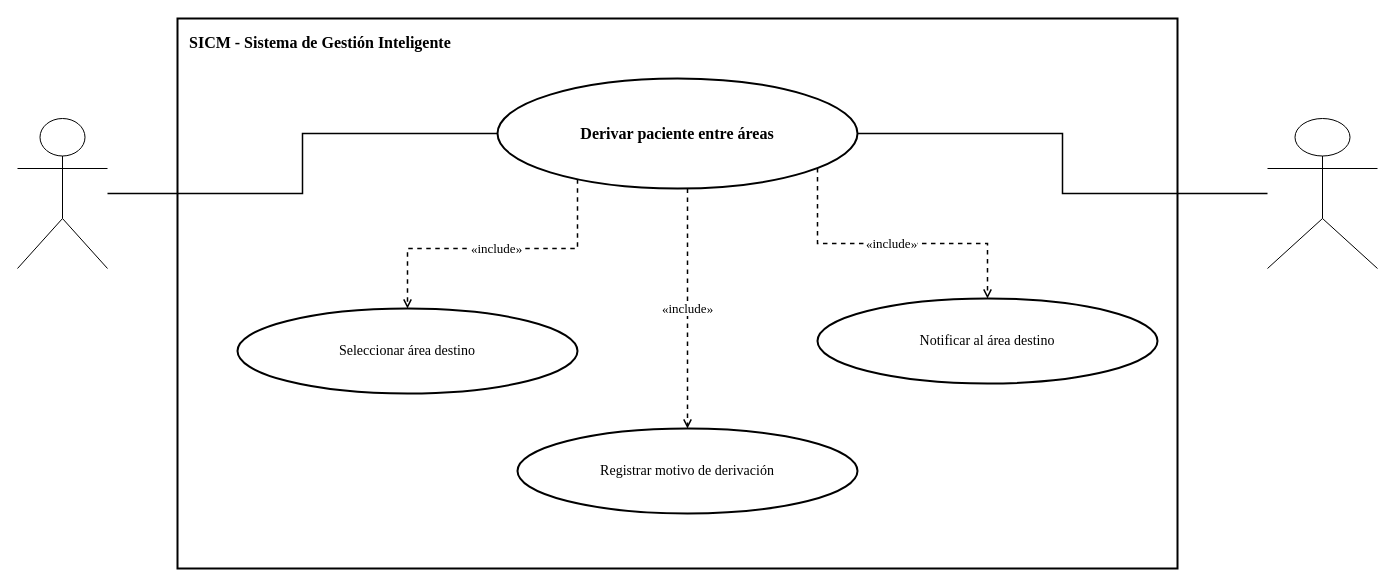
This 1399x586 diagram has some shape labels left out. The shapes that lost their labels are listed below. From the top down, each one's centre as x and y in pixels, then its label:
At [62,193]: "Enfermero(a)".
At [1322,193]: "Profesional del área".
